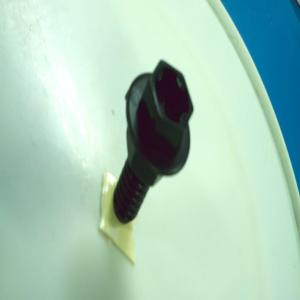parafuso: (112, 56, 196, 224), (113, 58, 195, 224)
